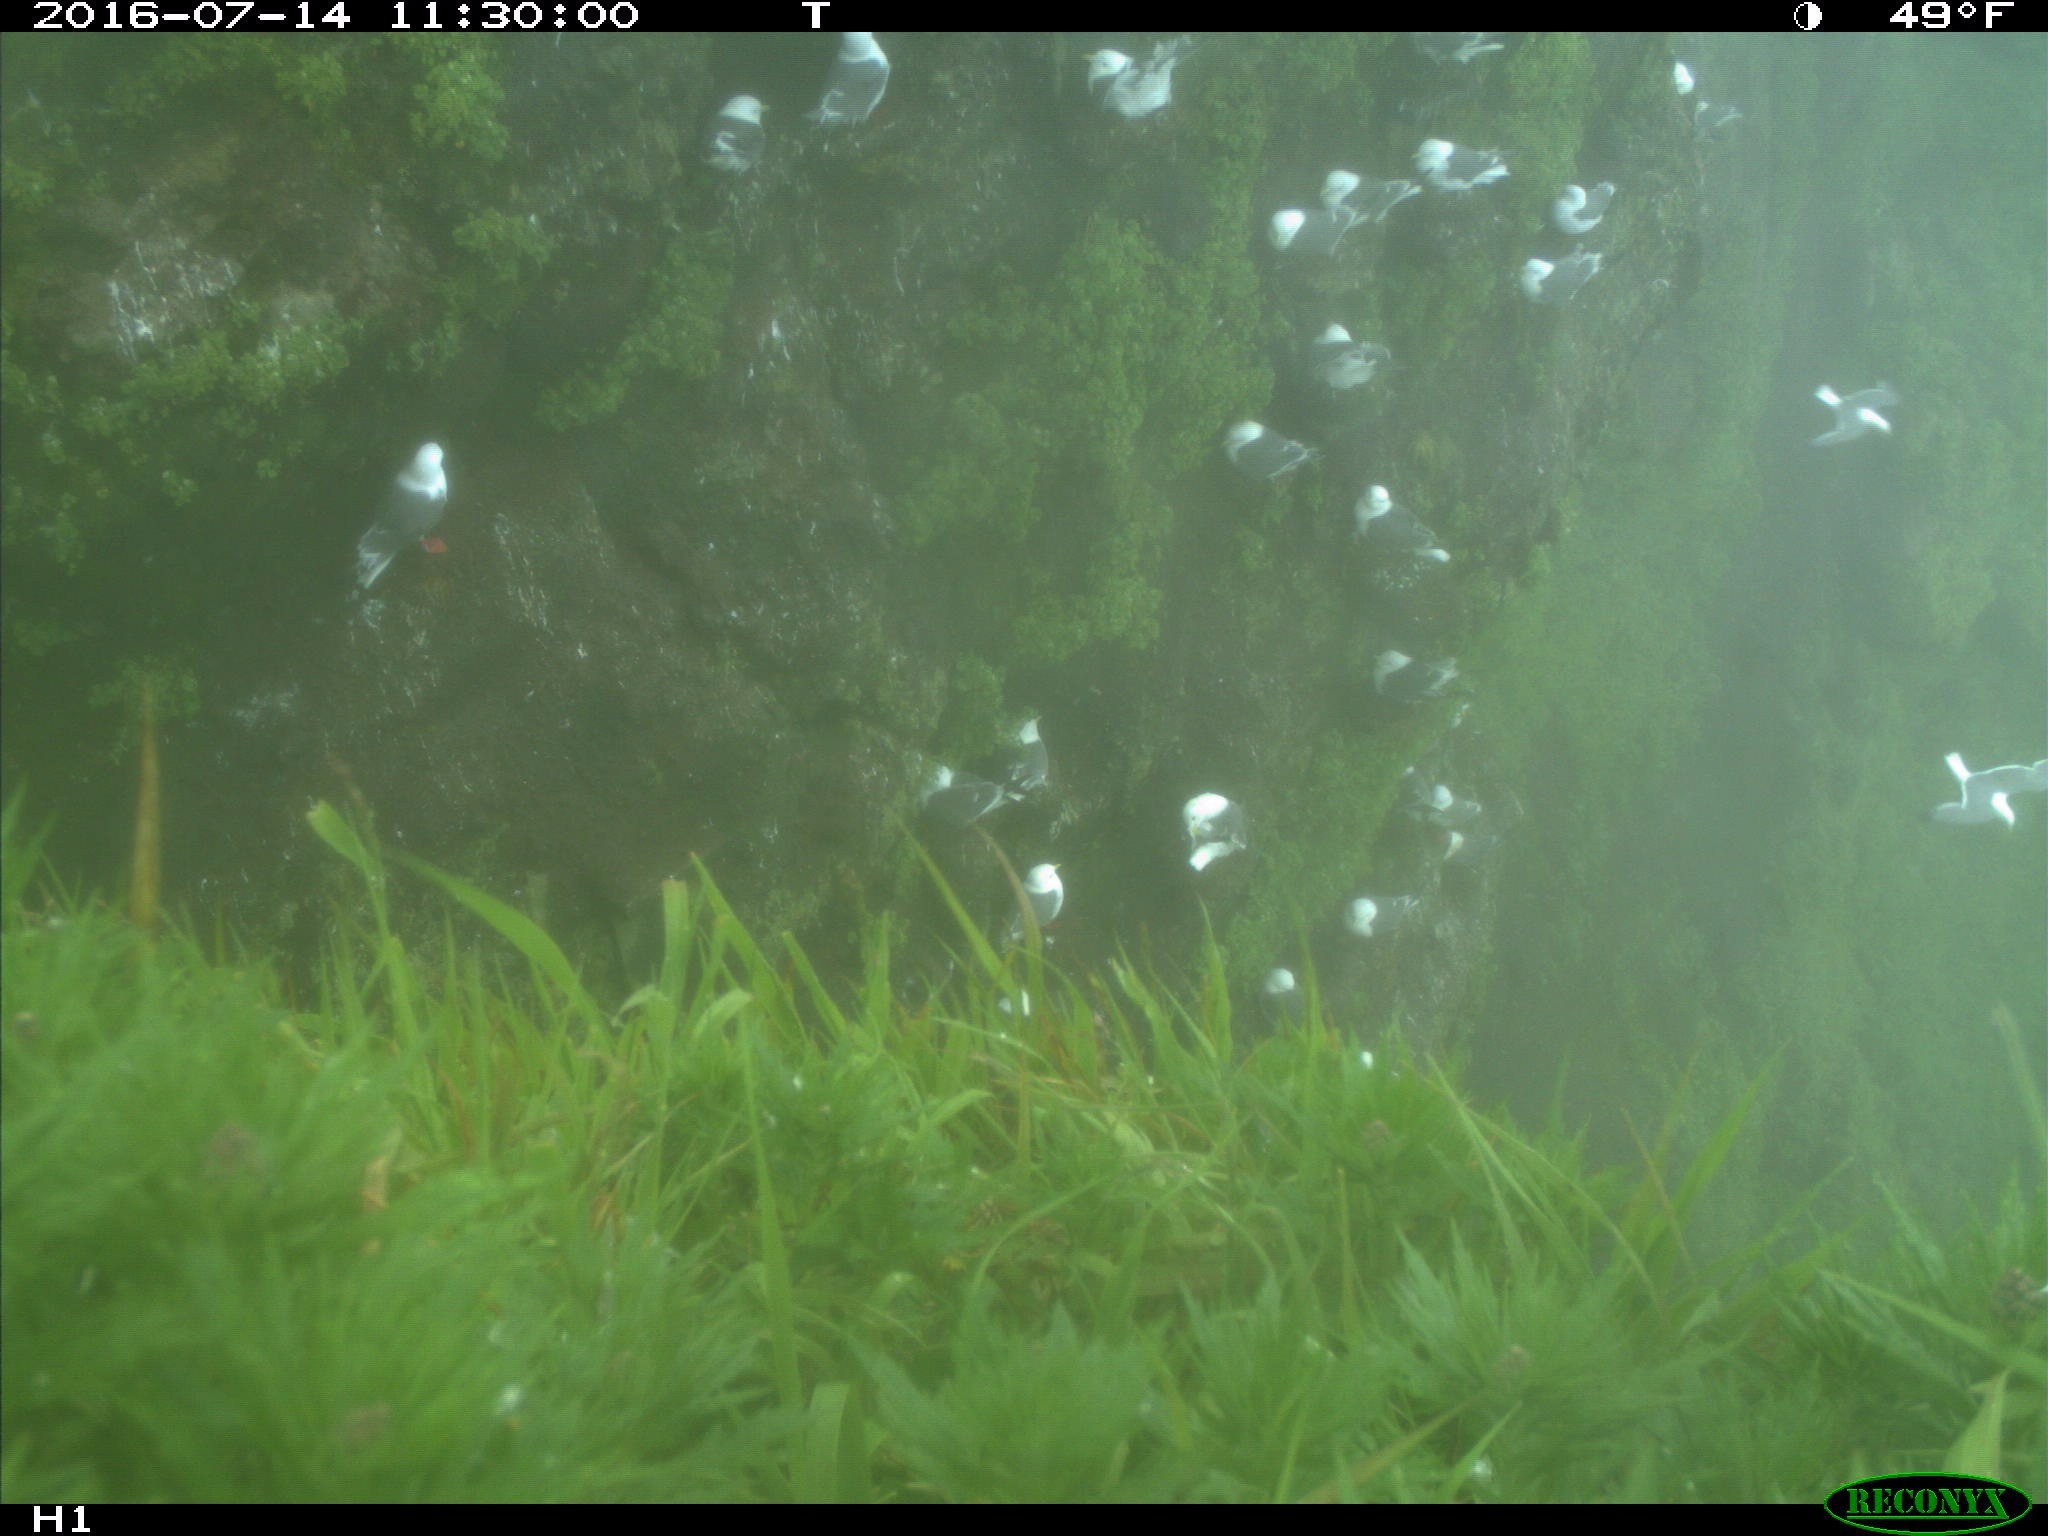Kittiwake: (308, 408, 527, 634), (1917, 666, 2046, 939), (1788, 337, 1929, 503), (643, 73, 813, 195), (1485, 224, 1655, 336), (1326, 461, 1471, 579), (901, 737, 1047, 854), (1279, 300, 1414, 419), (1163, 755, 1274, 899), (1064, 27, 1188, 152), (1279, 139, 1442, 232), (784, 32, 918, 144), (990, 850, 1111, 971), (1308, 870, 1463, 962), (1395, 111, 1534, 211), (1664, 53, 1772, 181), (1213, 411, 1324, 523), (985, 679, 1079, 803), (1350, 637, 1479, 726), (1529, 166, 1637, 260), (1268, 189, 1376, 265), (1379, 766, 1505, 829), (1416, 808, 1521, 883), (1400, 35, 1534, 87), (1263, 954, 1334, 1046)
